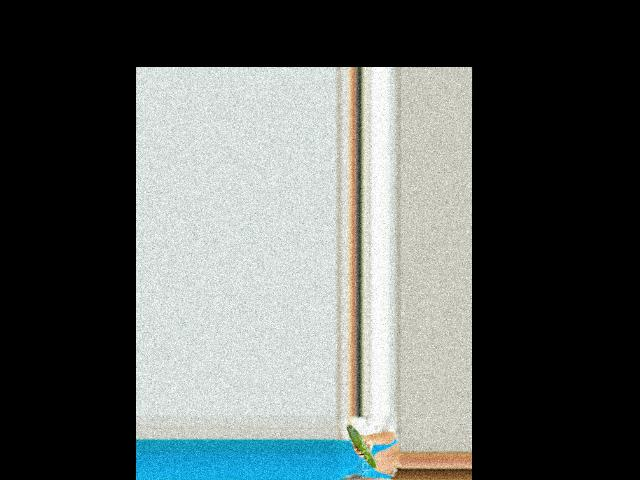cucumber: (346, 425, 377, 468)
